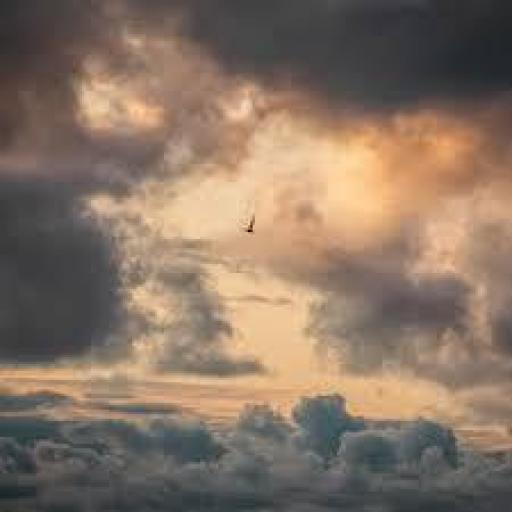birds: (234, 208, 270, 247)
